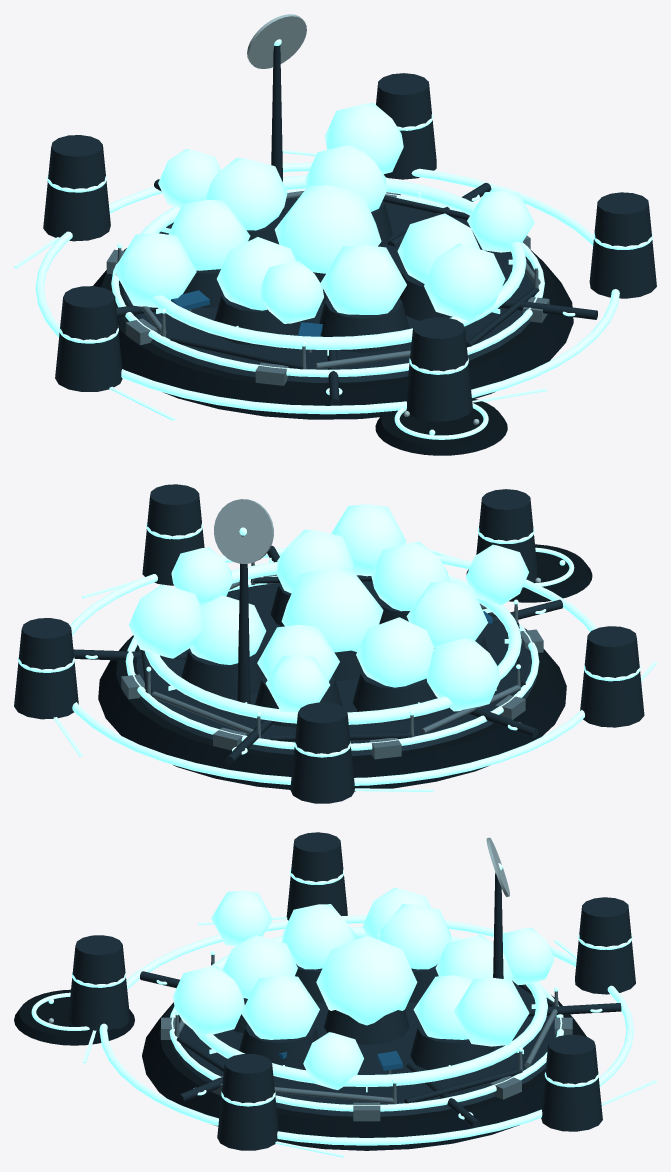
Rendered from crystalStorage-stage3.glb.
3 views of the same model, one above another, from view 1: azimuth 30°, elevation 25°; view 2: azimuth 150°, elevation 25°; view 3: azimuth 270°, elevation 25° (orthographic). The views are drawn at different scales.
Visible parts, largest first — view 1: crystal-cell (×7), armored-foundation, upper-deck, district-grid-2, logistics-ring, detail (×4), refinery-annex-1, refinery-annex-2, refinery-annex-4, refinery-annex-0, mega-crystal-cell-1, mega-crystal-cell-3 (+14 smaller); view 2: crystal-cell (×7), armored-foundation, upper-deck, detail (×5), district-grid-2, refinery-annex-2, refinery-annex-3, refinery-annex-1, logistics-ring, refinery-annex-4, mega-crystal-cell-5, mega-crystal-cell-3 (+19 smaller); view 3: crystal-cell (×7), armored-foundation, upper-deck, detail (×5), district-grid-2, refinery-annex-3, refinery-annex-4, refinery-annex-2, refinery-annex-0, logistics-ring, mega-crystal-cell-5, refinery-annex-1 (+16 smaller).
Boxes of the visible parts, x1,y1,x2,y2 form: crystal-cell (×7): (168, 145, 479, 314); armored-foundation: (93, 198, 573, 419); upper-deck: (115, 198, 542, 382); district-grid-2: (35, 162, 619, 414); logistics-ring: (140, 175, 526, 349); detail (×4): (183, 268, 452, 352); refinery-annex-1: (55, 286, 122, 391); refinery-annex-2: (43, 135, 110, 241); refinery-annex-4: (589, 192, 656, 298); refinery-annex-0: (405, 317, 472, 421); mega-crystal-cell-1: (424, 244, 505, 321); mega-crystal-cell-3: (113, 233, 196, 307); crystal-cell (×7): (190, 529, 487, 687); armored-foundation: (98, 581, 566, 791); upper-deck: (127, 581, 536, 756); detail (×5): (181, 582, 437, 727); district-grid-2: (70, 548, 596, 785); refinery-annex-2: (290, 702, 354, 803); refinery-annex-3: (14, 618, 78, 719); refinery-annex-1: (580, 626, 644, 727); logistics-ring: (144, 562, 521, 724); refinery-annex-4: (142, 484, 204, 585); mega-crystal-cell-5: (129, 584, 203, 658); mega-crystal-cell-3: (426, 638, 500, 711); crystal-cell (×7): (222, 904, 512, 1039); armored-foundation: (142, 995, 586, 1150); upper-deck: (171, 982, 556, 1116); detail (×5): (239, 964, 494, 1070); district-grid-2: (99, 915, 633, 1145); refinery-annex-3: (541, 1034, 602, 1131); refinery-annex-4: (217, 1054, 278, 1150); refinery-annex-2: (575, 897, 635, 994); refinery-annex-0: (68, 935, 129, 1030); logistics-ring: (194, 927, 547, 1086); mega-crystal-cell-5: (454, 977, 529, 1046); refinery-annex-1: (286, 832, 347, 920).
Size of the model in its own units: 14.35 by 5.91 by 15.31.
